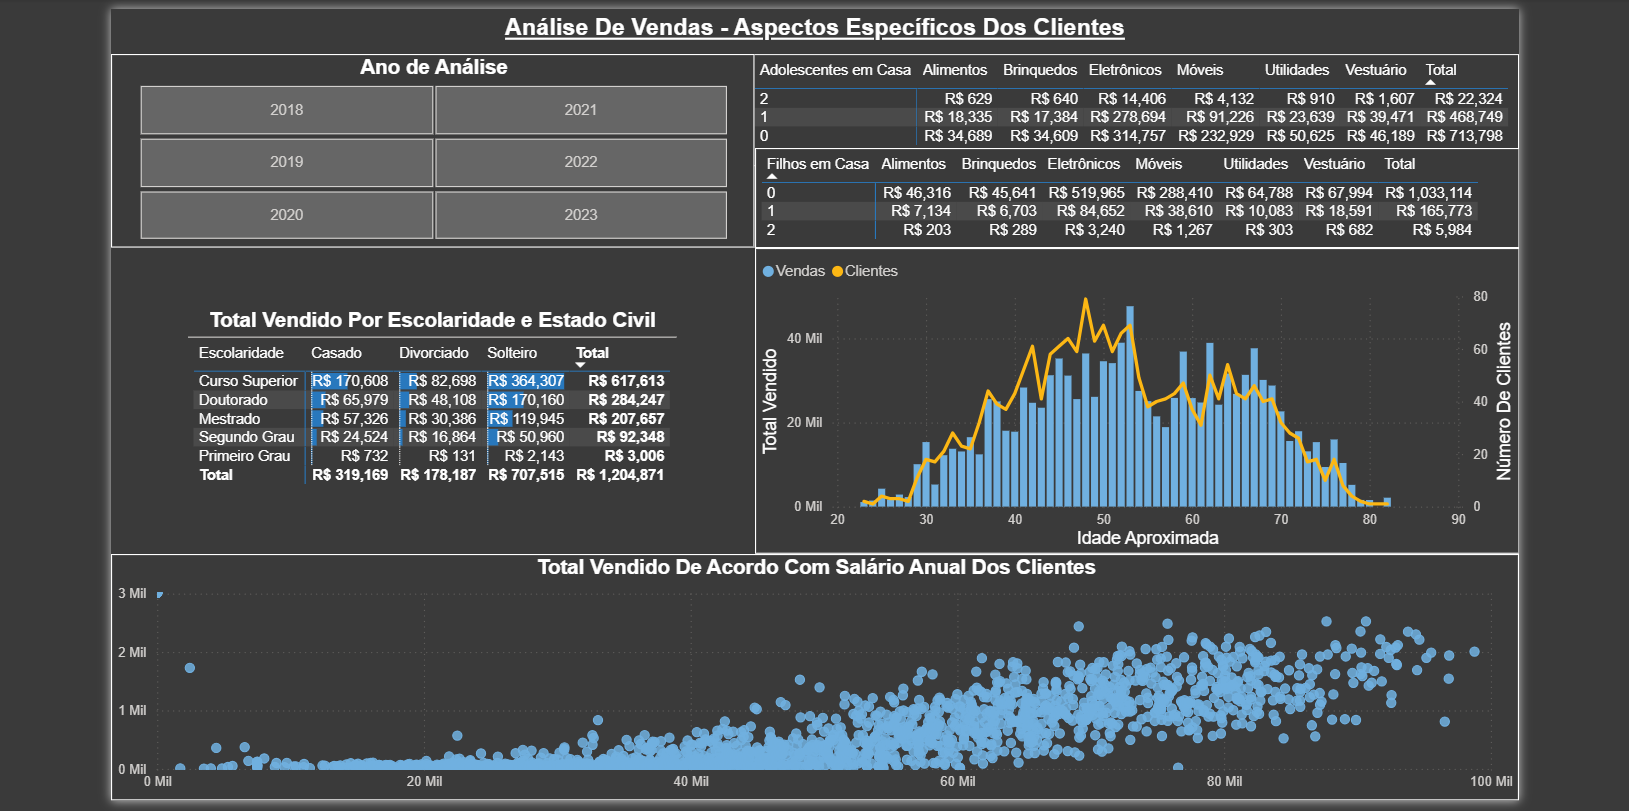

Layout of this report page (visuals, bound fields, positions):
{"tool":"powerbi","page":{"name":"Página 2","canvas":[1280,720],"ordinal":1},"visuals":[{"type":"pivotTable","fields":{"Values":["Sum(dados_marketing.Gasto com Alimentos)","Sum(dados_marketing.Gasto com Brinquedos)","Sum(dados_marketing.Gasto com Eletronicos)","Sum(dados_marketing.Gasto com Moveis)","Sum(dados_marketing.Gasto com Utilidades)","Sum(dados_marketing.Gasto com Vestuario)","Sum(dados_marketing.Total Gasto)"],"Rows":["dados_marketing.Adolescentes em Casa"]},"box":[579,40.8,701.4,102],"z":0},{"type":"pivotTable","fields":{"Values":["Sum(dados_marketing.Gasto com Alimentos)","Sum(dados_marketing.Gasto com Brinquedos)","Sum(dados_marketing.Gasto com Eletronicos)","Sum(dados_marketing.Gasto com Moveis)","Sum(dados_marketing.Gasto com Utilidades)","Sum(dados_marketing.Gasto com Vestuario)","Sum(dados_marketing.Total Gasto)"],"Rows":["dados_marketing.Filhos em Casa"]},"box":[585.2,125.9,695.2,91.3],"z":1000},{"type":"scatterChart","title":"Total Vendido De Acordo Com Salário Anual Dos Clientes","fields":{"X":["dados_marketing.Salario Anual"],"Y":["dados_marketing.Total Gasto"]},"box":[0,495.7,1280.4,224.3],"z":2000},{"type":"textbox","box":[0,0,1280,41],"z":3000},{"type":"pivotTable","title":"Total Vendido Por Escolaridade e Estado Civil","fields":{"Values":["Sum(dados_marketing.Total Gasto)"],"Rows":["dados_marketing.Escolaridade"],"Columns":["dados_marketing.Estado Civil"]},"box":[70,272.2,444.2,168.5],"z":4000},{"type":"slicer","title":"Ano de Análise","fields":{"Values":["dados_marketing.Data Cadastro.Variation.Hierarquia de datas.Ano"]},"box":[0,40.8,585.2,176.5],"z":5000},{"type":"lineClusteredColumnComboChart","title":"Total Vendido Por Idade Aproximada Dos Clientes","fields":{"Category":["dados_marketing.Idade Aproximada"],"Y":["Sum(dados_marketing.Total Gasto)"],"Y2":["CountNonNull(dados_marketing.ID)"]},"box":[585.2,217.2,695.2,278.4],"z":6000}]}

Visuals, with their boxes in screenshot pixels (x1, y1, x2, y2):
pivotTable - Sum(dados_marketing.Gasto com Alimentos) x Sum(dados_marketing.Gasto com Brinquedos): BBox(740, 45, 1519, 158)
pivotTable - Sum(dados_marketing.Gasto com Alimentos) x Sum(dados_marketing.Gasto com Brinquedos): BBox(747, 140, 1519, 241)
"Total Vendido De Acordo Com Salário Anual Dos Clientes" scatterChart: BBox(98, 550, 1519, 799)
textbox: BBox(98, 0, 1518, 46)
"Total Vendido Por Escolaridade e Estado Civil" pivotTable: BBox(175, 302, 668, 489)
"Ano de Análise" slicer: BBox(98, 45, 747, 241)
"Total Vendido Por Idade Aproximada Dos Clientes" lineClusteredColumnComboChart: BBox(747, 241, 1519, 550)
